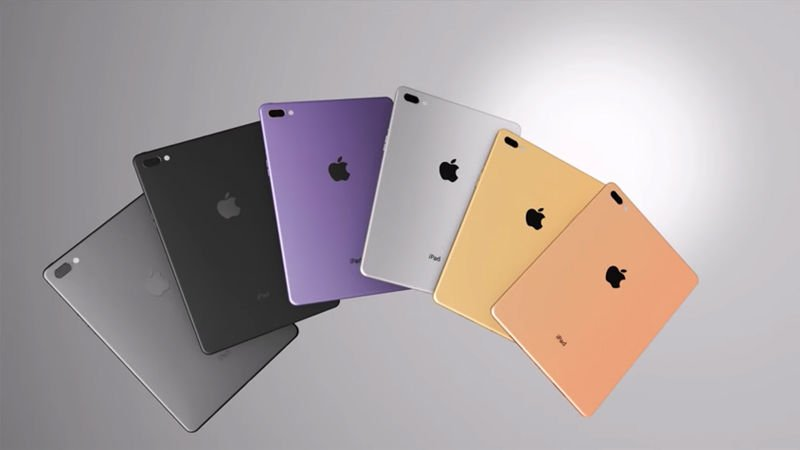apple: (320, 148, 380, 196), (595, 260, 641, 302), (425, 151, 467, 193), (204, 185, 248, 223), (515, 199, 555, 235), (139, 267, 179, 299)
